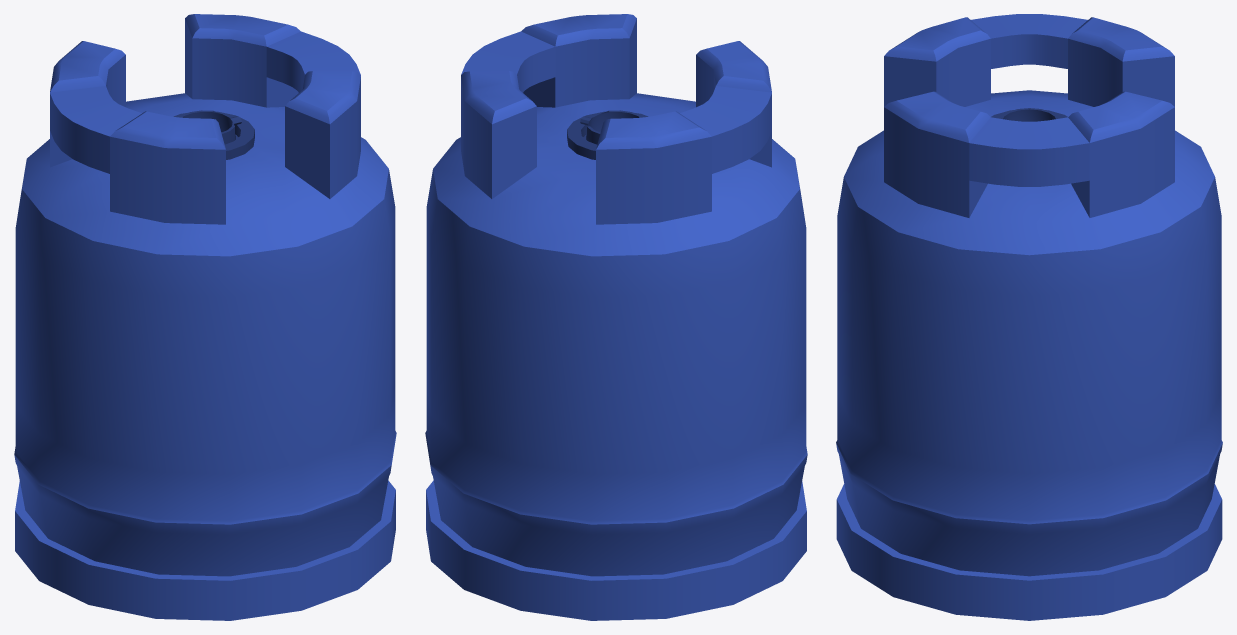
The model's file is gas9.glb.
3 views of the same model, side by side, from view 1: azimuth 30°, elevation 25°; view 2: azimuth 150°, elevation 25°; view 3: azimuth 270°, elevation 25° (orthographic).
Visible parts, largest first — view 1: Gas9; view 2: Gas9; view 3: Gas9.
Part boxes in pixels (left/top/right/bottom): Gas9: left=14, top=14, right=396, bottom=620; Gas9: left=425, top=14, right=807, bottom=620; Gas9: left=836, top=14, right=1222, bottom=620.
Size of the model in its own units: 2 by 2.67 by 2.
